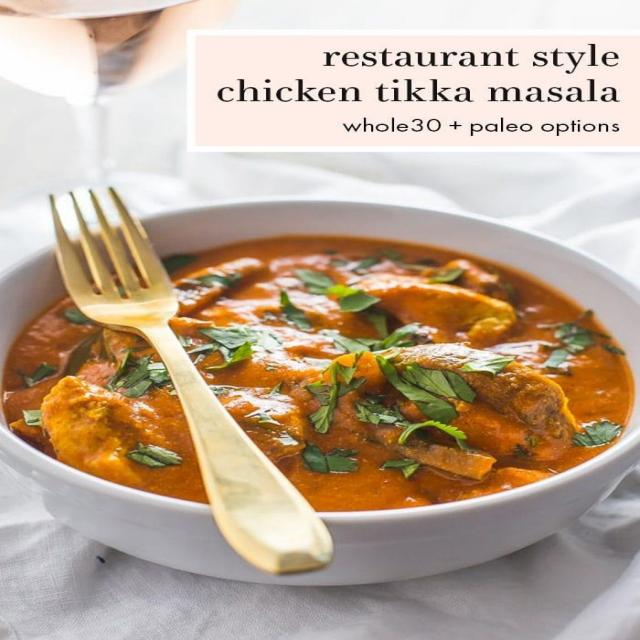chicken: (2, 250, 640, 503)
